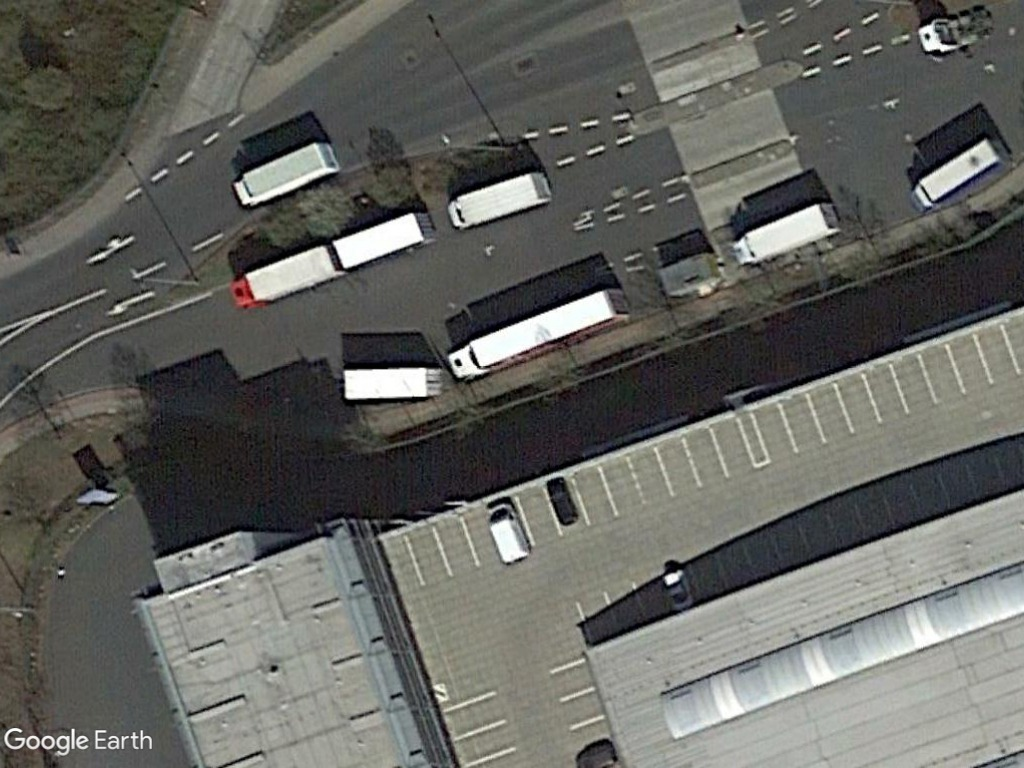longvehicle: (224, 204, 429, 313), (444, 283, 634, 384), (338, 363, 446, 405)
truck: (725, 189, 846, 272), (228, 134, 343, 218), (903, 132, 1008, 213), (442, 166, 557, 237)
van: (483, 500, 533, 566)
